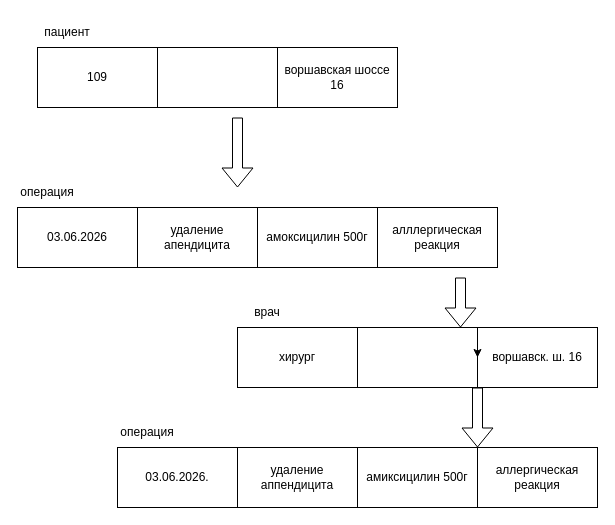
The diagram is 615 pixels wide and 525 high, and some of its shapes have lost their labels. Here are the shapes that lost their labels. From the top down, the box of each, then its label:
(156, 46, 278, 108): Лукиан Парис Берко
(356, 326, 478, 388): Уильям хитклив
